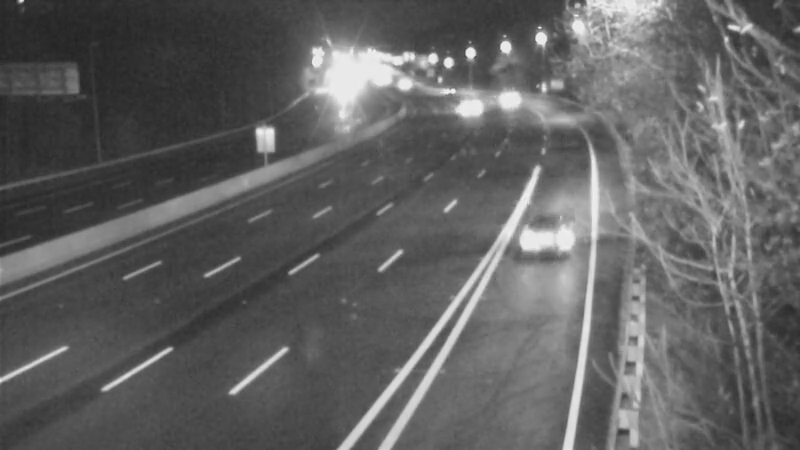vehicle: (504, 199, 584, 279), (415, 68, 465, 118), (481, 72, 531, 122), (443, 82, 493, 132)
